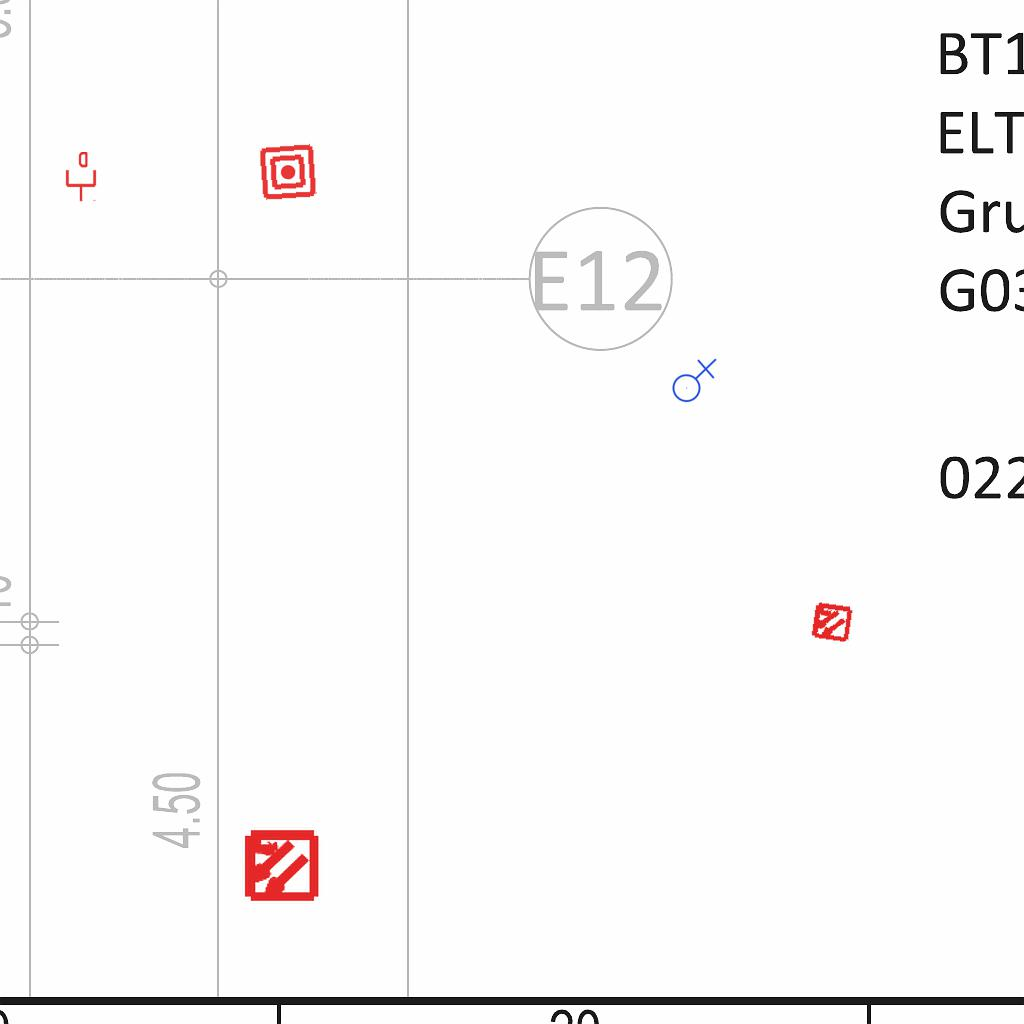Datenanschluss_einfach: (64, 152, 98, 202)
Elektroanschluss_allgemein_230V_Geraeteanschlussdose_230V: (668, 356, 717, 403)
NAM-Nichtautomatischer_Melder: (258, 142, 318, 202)
OT_Multisensormelder_(Kombination_RMO_WMD): (223, 809, 336, 922), (799, 590, 863, 654)
